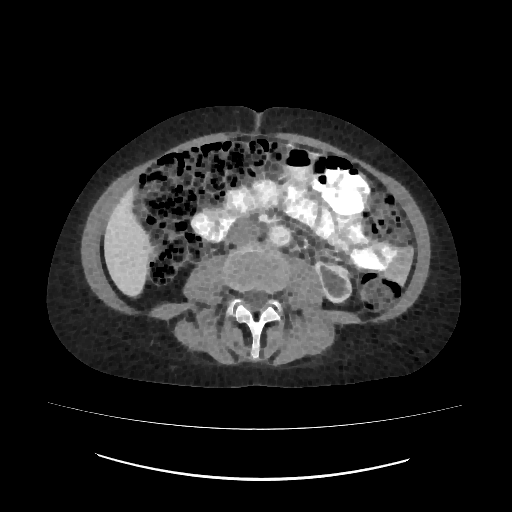Lesion: (318, 262, 350, 299)
